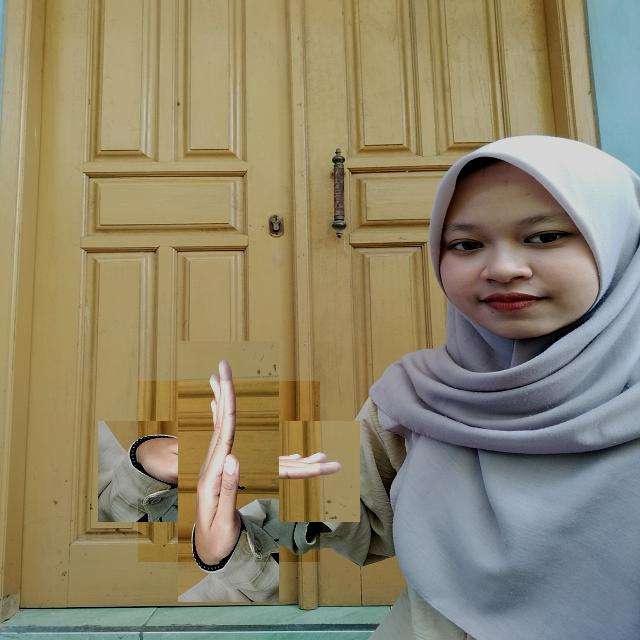adik: (138, 381, 320, 562)
